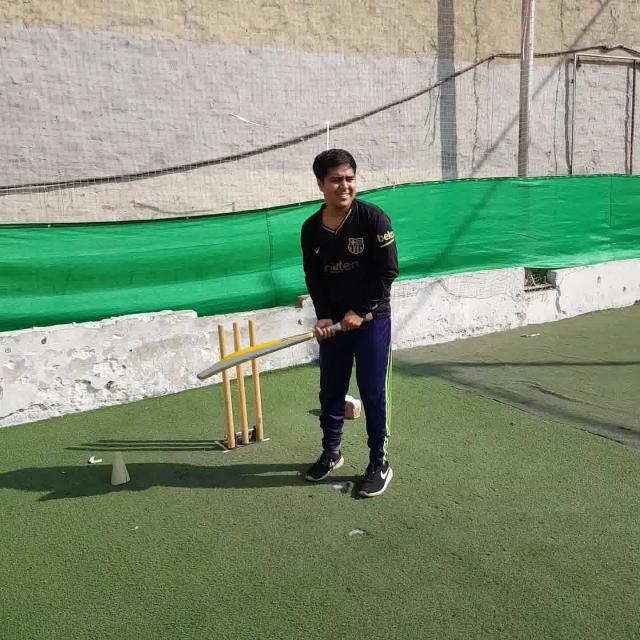bat: (196, 312, 373, 380)
